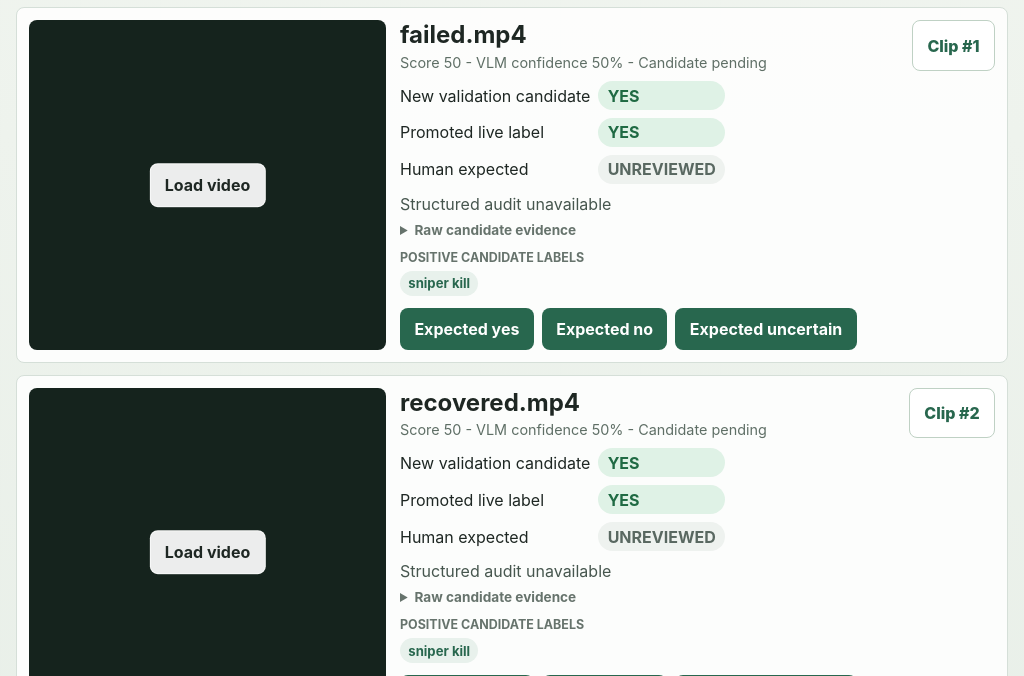
Test: EvalDashboard request ordering › continues the review queue after a rejection
(page scrolled)
Click the button "Expected yes" below "failed.mp4": coordinates (467, 329) [400,308,534,350]
(page scrolled)
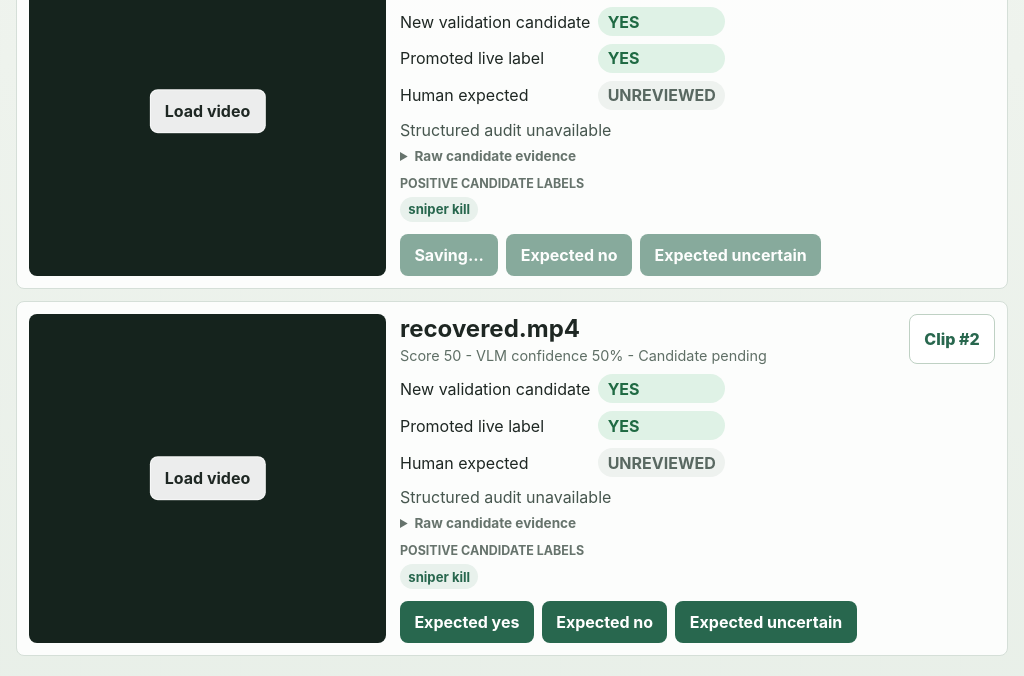
Click the button "Expected no" below "recovered.mp4": coordinates (605, 622) [542,601,668,643]
(page scrolled)
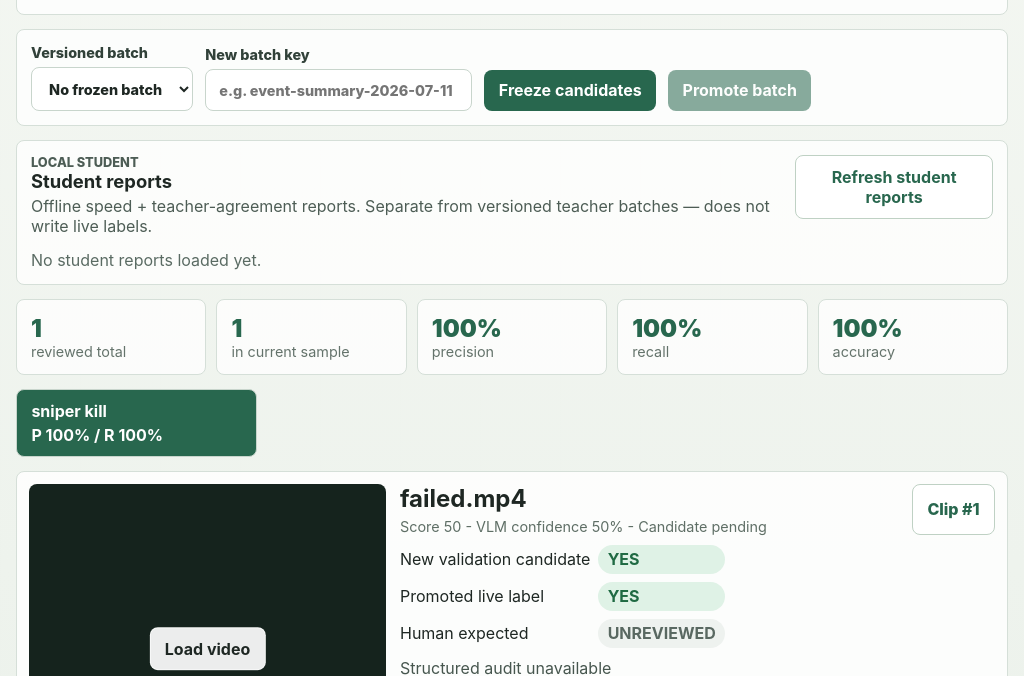
Result: the 1st text "1" is shown at [31,314,42,343]
